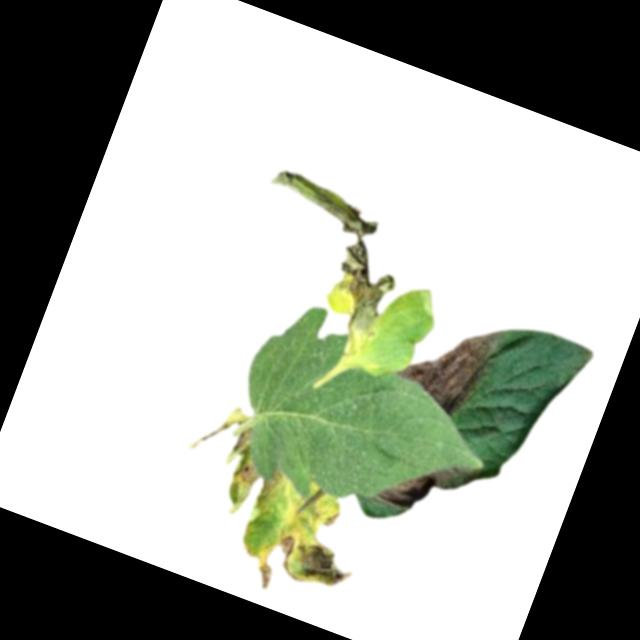Late_blight: (227, 165, 420, 346), (392, 301, 506, 423), (374, 438, 460, 525), (269, 525, 360, 598), (230, 533, 284, 591), (219, 455, 262, 519), (245, 465, 285, 529), (322, 507, 342, 529)
healthy: (213, 290, 515, 549)
